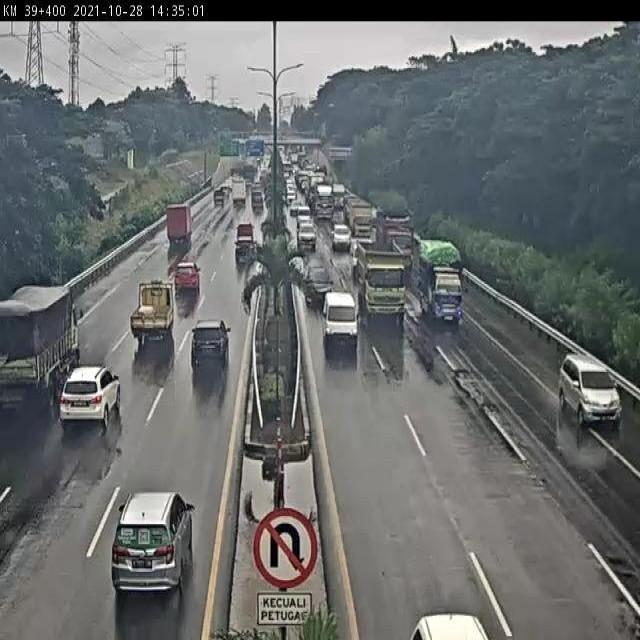big truck: (0, 288, 81, 412), (355, 243, 405, 320), (373, 196, 416, 243)
car: (104, 489, 214, 599), (550, 346, 630, 431), (48, 359, 126, 444), (395, 586, 490, 638), (179, 312, 237, 393), (321, 285, 359, 355), (162, 263, 204, 313), (291, 211, 320, 248), (303, 255, 329, 288), (328, 215, 351, 248), (231, 224, 259, 247), (232, 256, 257, 281)
small truck: (417, 241, 471, 328), (128, 278, 184, 358), (161, 195, 198, 249)
